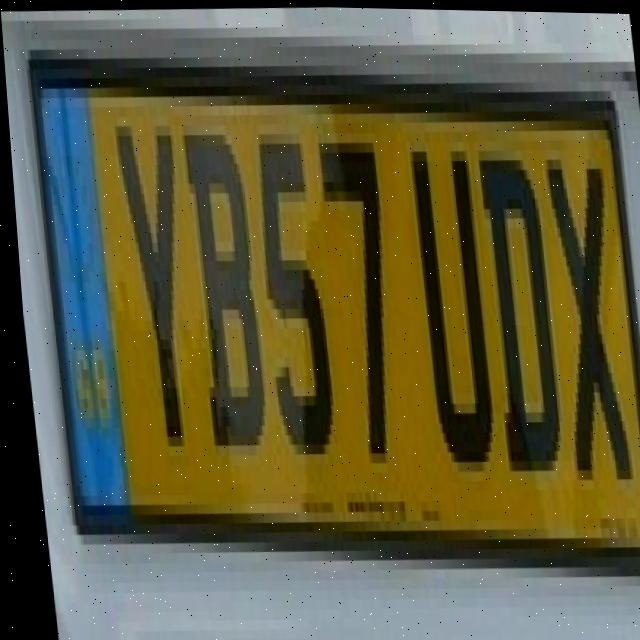LicensePlate: (14, 14, 640, 604)
